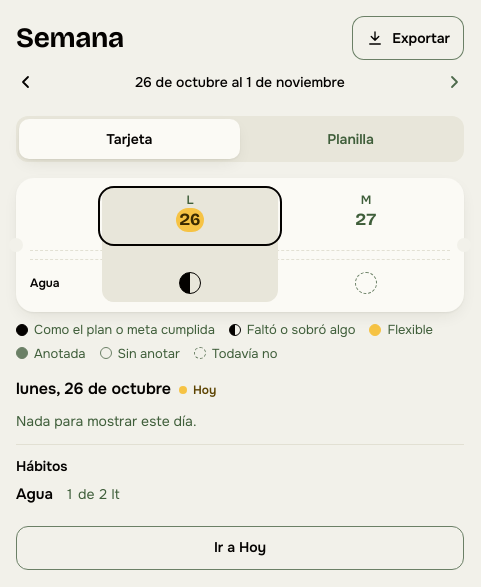
Test case: solo el encabezado entra en el recorrido de teclado y cualquier celda elige el día
Press Tab
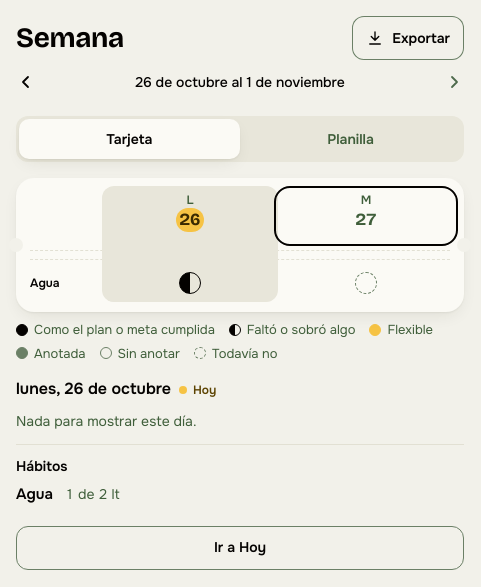
Click the 2nd button with class "semana-tarjeta__celda" at (366, 283), box x1=278 y1=268 x2=454 y2=298
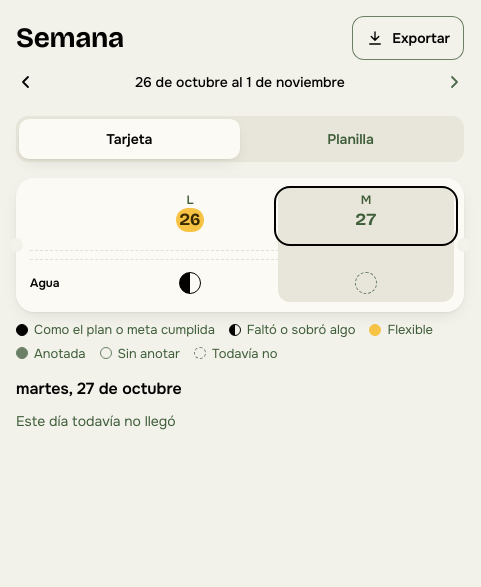
Result: the text "Este día todavía no llegó" is shown at x1=16 y1=412 x2=176 y2=430
Result: the text "Hoy" is gone
